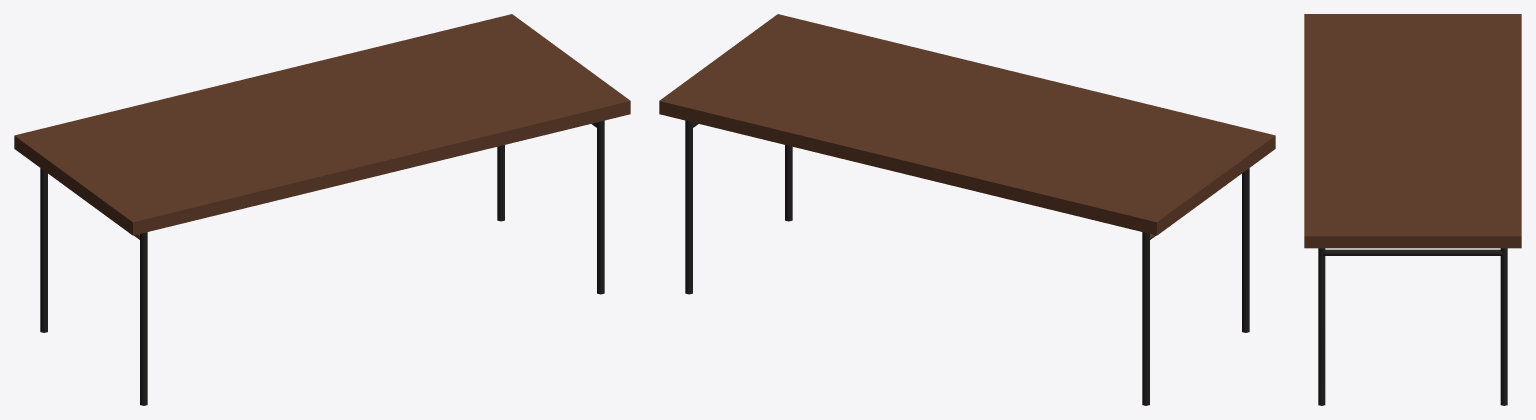
File: table2.FBX
3 renders of one model, left to right at view 1: azimuth 30°, elevation 25°; view 2: azimuth 150°, elevation 25°; view 3: azimuth 270°, elevation 25°, orthographic. The views are drawn at different scales.
Visible parts, largest first — view 1: table2; view 2: table2; view 3: table2.
Part boxes in pixels (bbox=[...]): table2: bbox=[14, 14, 630, 405]; table2: bbox=[659, 14, 1275, 405]; table2: bbox=[1304, 14, 1521, 405].
Size of the model in its own units: 264 by 98.03 by 109.
